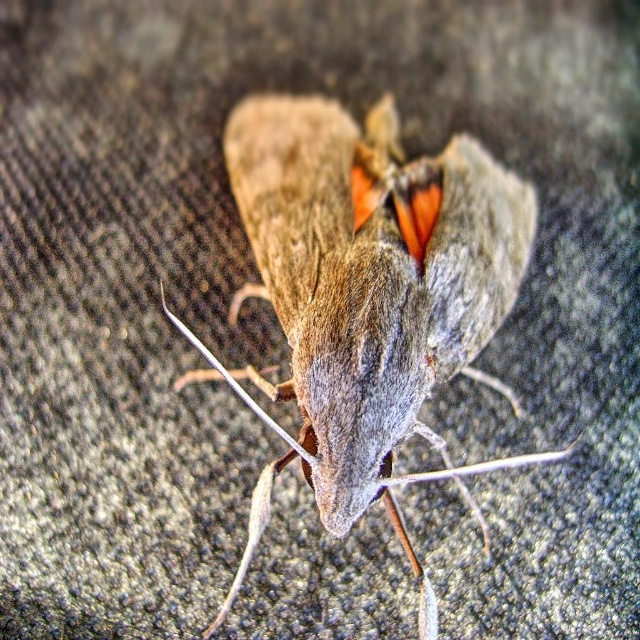Moths and butterflies: (160, 90, 586, 639)
